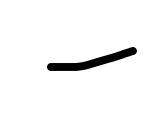minus: (49, 46, 135, 70)
